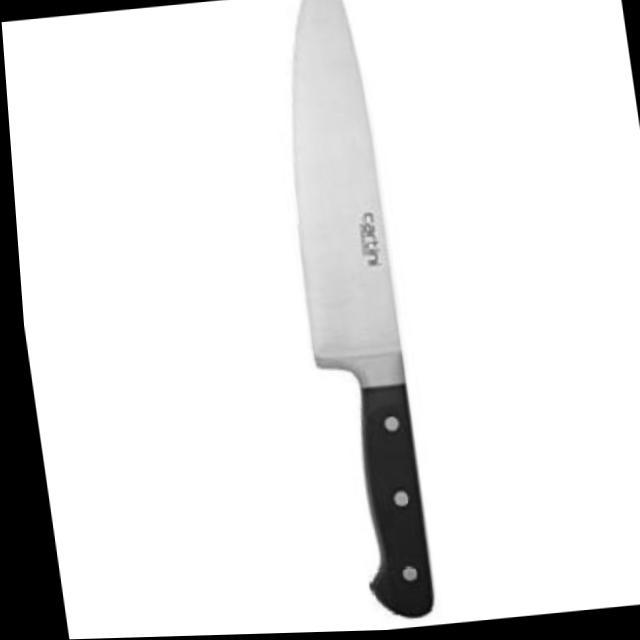weapon: (258, 0, 433, 625)
